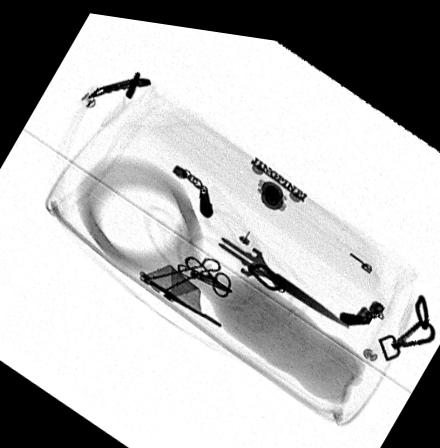Scissors: (186, 202, 351, 319)
